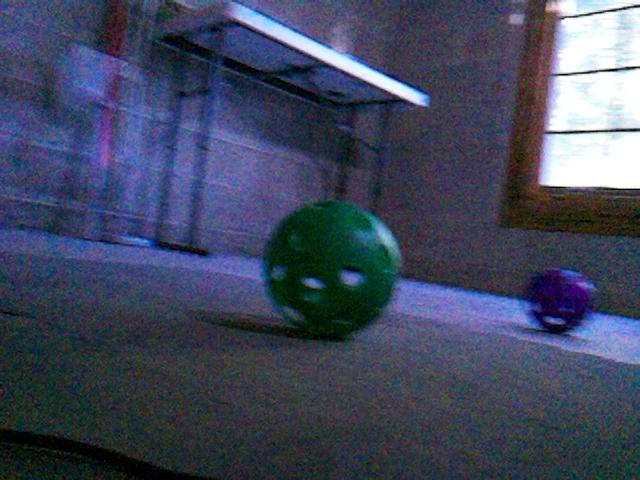Green: (262, 197, 402, 341)
Purple: (525, 266, 596, 333)
